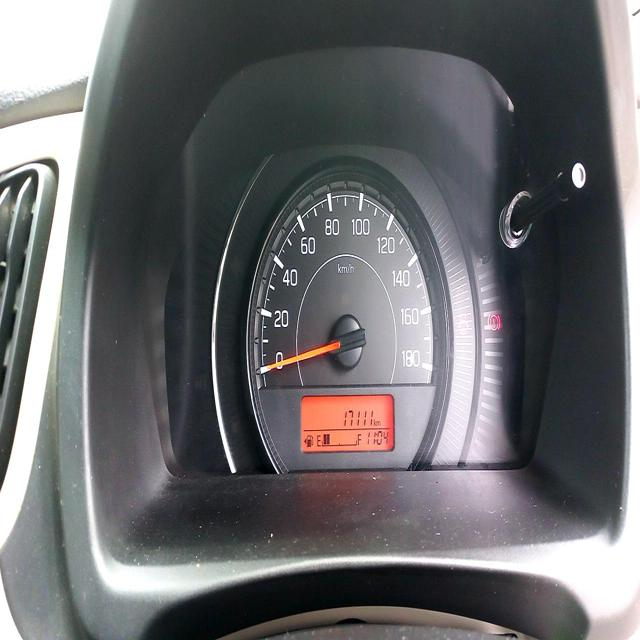odometer: (338, 404, 374, 428)
